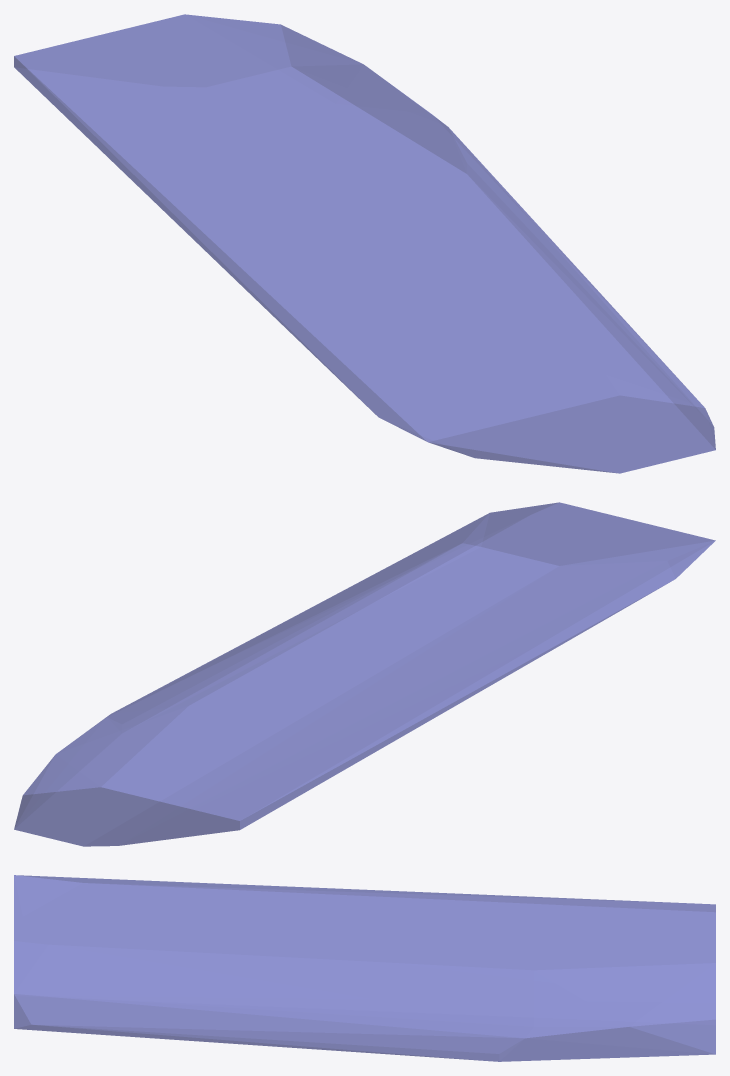
3 views of the same model, one above another, from view 1: azimuth 30°, elevation 25°; view 2: azimuth 150°, elevation 25°; view 3: azimuth 270°, elevation 25° (orthographic). The views are drawn at different scales.
Parts seen in each view (by area): view 1: Shape_IndexedFaceSet.028_Shape_IndexedFaceSet.5919; view 2: Shape_IndexedFaceSet.028_Shape_IndexedFaceSet.5919; view 3: Shape_IndexedFaceSet.028_Shape_IndexedFaceSet.5919.
Boxes of the visible parts, left/top/right/bottom form: Shape_IndexedFaceSet.028_Shape_IndexedFaceSet.5919: left=14, top=14, right=715, bottom=473; Shape_IndexedFaceSet.028_Shape_IndexedFaceSet.5919: left=14, top=502, right=715, bottom=846; Shape_IndexedFaceSet.028_Shape_IndexedFaceSet.5919: left=14, top=875, right=715, bottom=1061.
Bounding box in the file's own units: 0.0709 × 0.0138 × 0.1596.
